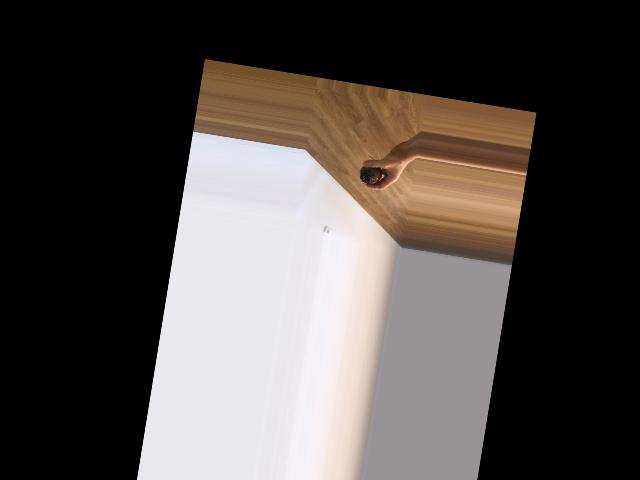beet: (357, 154, 384, 186)
